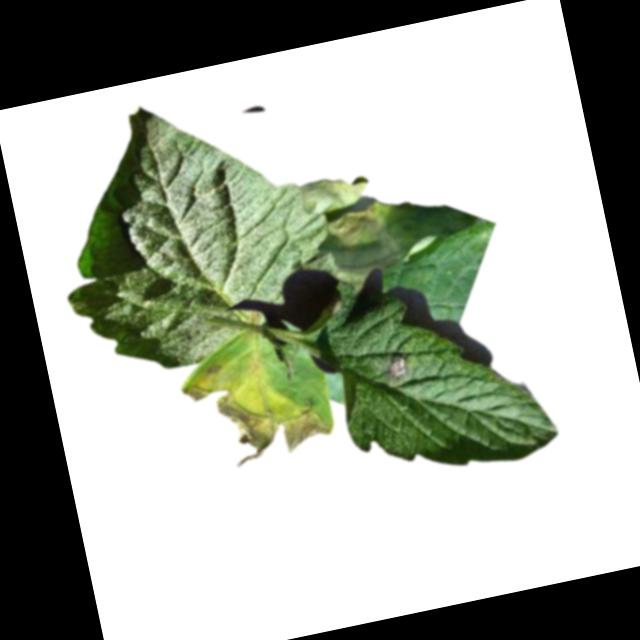Late_blight: (297, 146, 485, 289), (178, 341, 335, 473), (381, 349, 411, 383)
